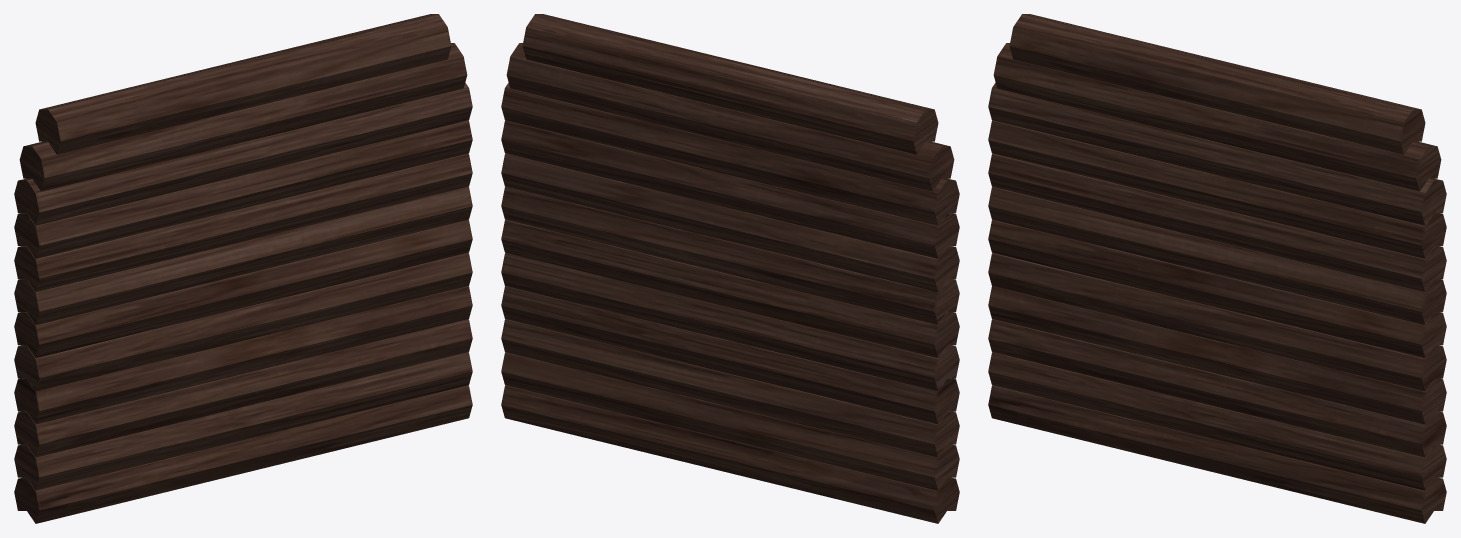
Rendered from duvarcamsiz.fbx.
3 renders of one model, left to right at view 1: azimuth 30°, elevation 25°; view 2: azimuth 150°, elevation 25°; view 3: azimuth 330°, elevation 25°, orthographic.
Visible parts, largest first — view 1: Wall_Narrow_02_b; view 2: Wall_Narrow_02_b; view 3: Wall_Narrow_02_b.
Part boxes in pixels (left/top/right/bottom): Wall_Narrow_02_b: left=14, top=14, right=472, bottom=523; Wall_Narrow_02_b: left=501, top=14, right=959, bottom=523; Wall_Narrow_02_b: left=988, top=14, right=1446, bottom=523.
Bounding box in the file's own units: 260 × 231 × 26.18.
